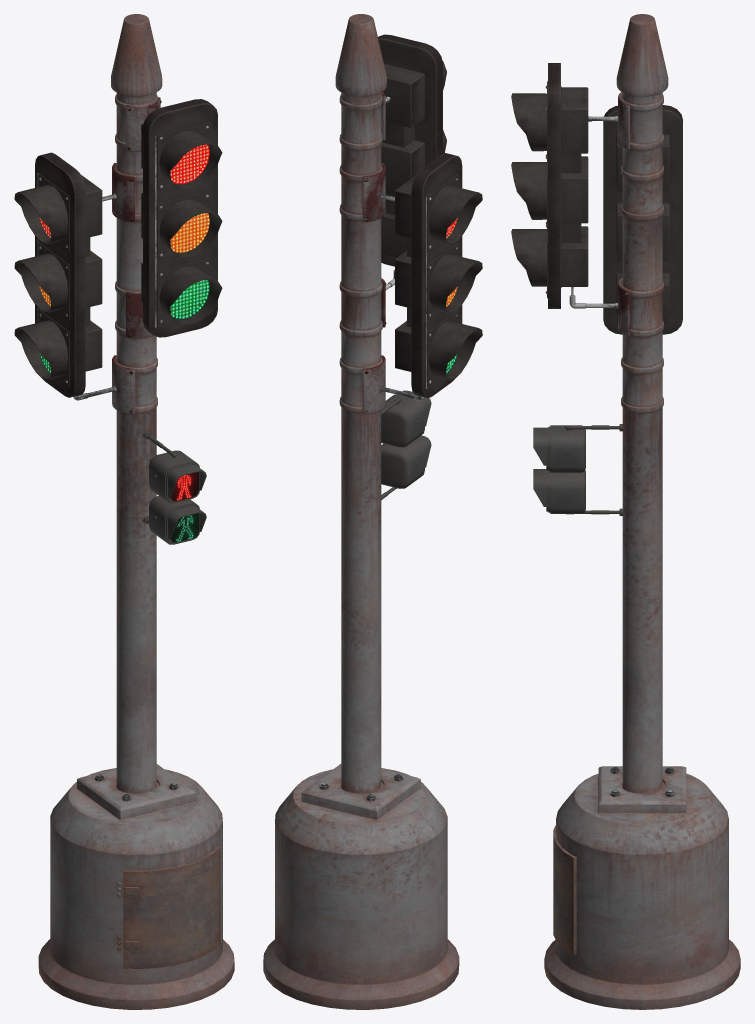
The model's file is traffic_light.glb.
The picture shows the model from 3 angles, left to right: view 1: azimuth 30°, elevation 25°; view 2: azimuth 150°, elevation 25°; view 3: azimuth 270°, elevation 25°; orthographic projection.
Visible parts, largest first — view 1: Cylinder_0, Sphere.021_13, Cube.001_8, Cube_3, Plane.010_15, Cylinder.004_14, Plane_2, Plane.006_12, Plane.004_9, Plane.005_11, Plane.003_7, Plane.001_5 (+2 smaller); view 2: Cylinder_0, Cube_3, Cube.001_8, Plane_2, Cylinder.004_14, Plane.004_9, Plane.006_12, Plane.005_11, little_things_4; view 3: Cylinder_0, Cube_3, Cube.001_8, Plane_2, Sphere.021_13, Plane.001_5, Plane.002_6, Plane.003_7, Cylinder.004_14.
Boxes of the visible parts, <box> form: Cylinder_0: <box>38,14,234,1009</box>; Sphere.021_13: <box>117,846,220,968</box>; Cube.001_8: <box>35,152,102,397</box>; Cube_3: <box>141,99,217,337</box>; Plane.010_15: <box>39,144,209,542</box>; Cylinder.004_14: <box>112,97,160,414</box>; Plane_2: <box>143,431,206,544</box>; Plane.006_12: <box>14,309,69,387</box>; Plane.004_9: <box>14,174,69,251</box>; Plane.005_11: <box>14,243,69,320</box>; Plane.003_7: <box>157,258,222,326</box>; Plane.001_5: <box>157,123,222,191</box>; Cylinder_0: <box>263,14,459,1009</box>; Cube_3: <box>378,34,442,266</box>; Cube.001_8: <box>395,153,462,398</box>; Plane_2: <box>381,390,431,499</box>; Cylinder.004_14: <box>362,92,385,414</box>; Plane.004_9: <box>427,174,482,251</box>; Plane.006_12: <box>427,310,482,387</box>; Plane.005_11: <box>427,243,482,320</box>; little_things_4: <box>380,96,427,400</box>; Cylinder_0: <box>544,14,740,1009</box>; Cube_3: <box>548,63,588,308</box>; Cube.001_8: <box>603,105,682,334</box>; Plane_2: <box>533,424,622,515</box>; Sphere.021_13: <box>553,825,576,955</box>; Plane.001_5: <box>511,81,547,162</box>; Plane.002_6: <box>511,162,547,231</box>; Plane.003_7: <box>511,229,547,298</box>; Cylinder.004_14: <box>618,92,630,336</box>.
Size of the model in its own units: 2.33 by 10.67 by 2.34.
10 materials, 10 textured.
